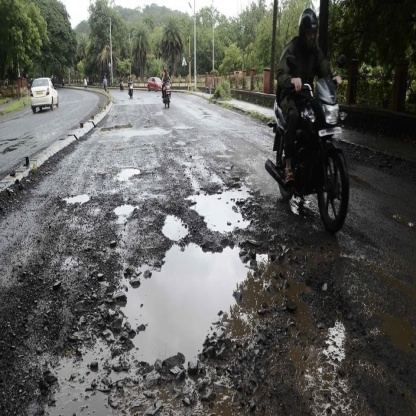pothole: (14, 230, 316, 416), (191, 166, 254, 239)
